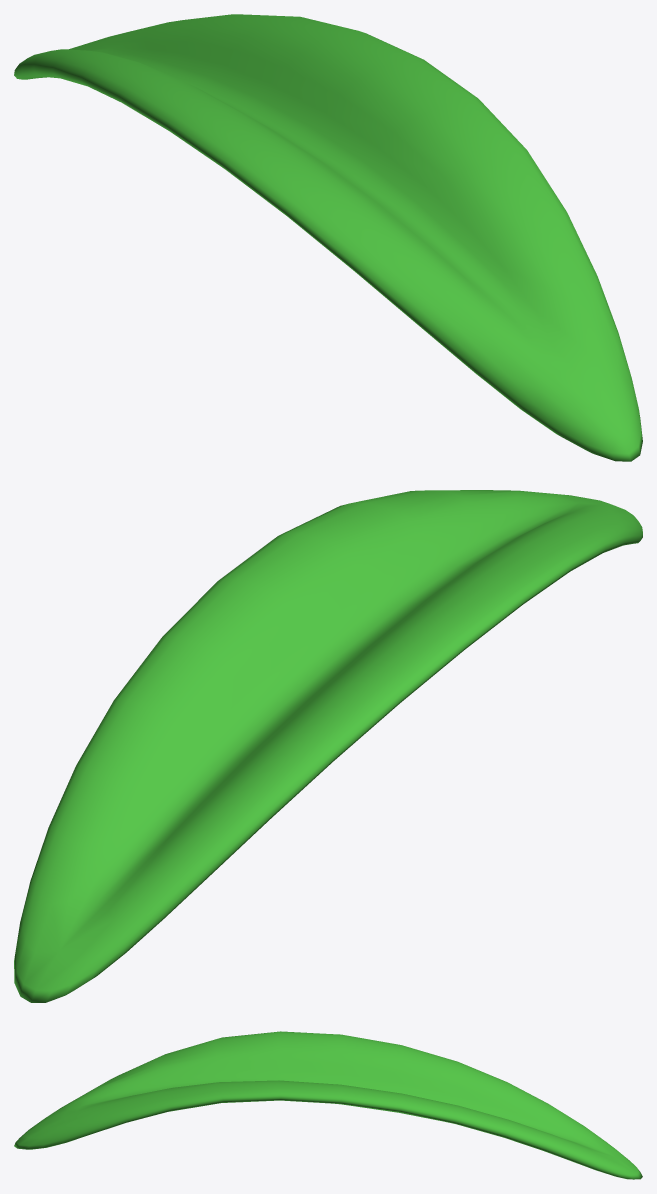
File: PalmLeaf.fbx
The picture shows the model from 3 angles, top to bottom: view 1: azimuth 30°, elevation 25°; view 2: azimuth 150°, elevation 25°; view 3: azimuth 270°, elevation 25°; orthographic projection. The views are drawn at different scales.
Visible parts, largest first — view 1: Plane; view 2: Plane; view 3: Plane.
Part boxes in pixels (x1,y1,x2,y2): Plane: (14, 14, 642, 461); Plane: (14, 490, 642, 1002); Plane: (14, 1031, 642, 1179).
Size of the model in its own units: 81.45 by 61.8 by 327.
